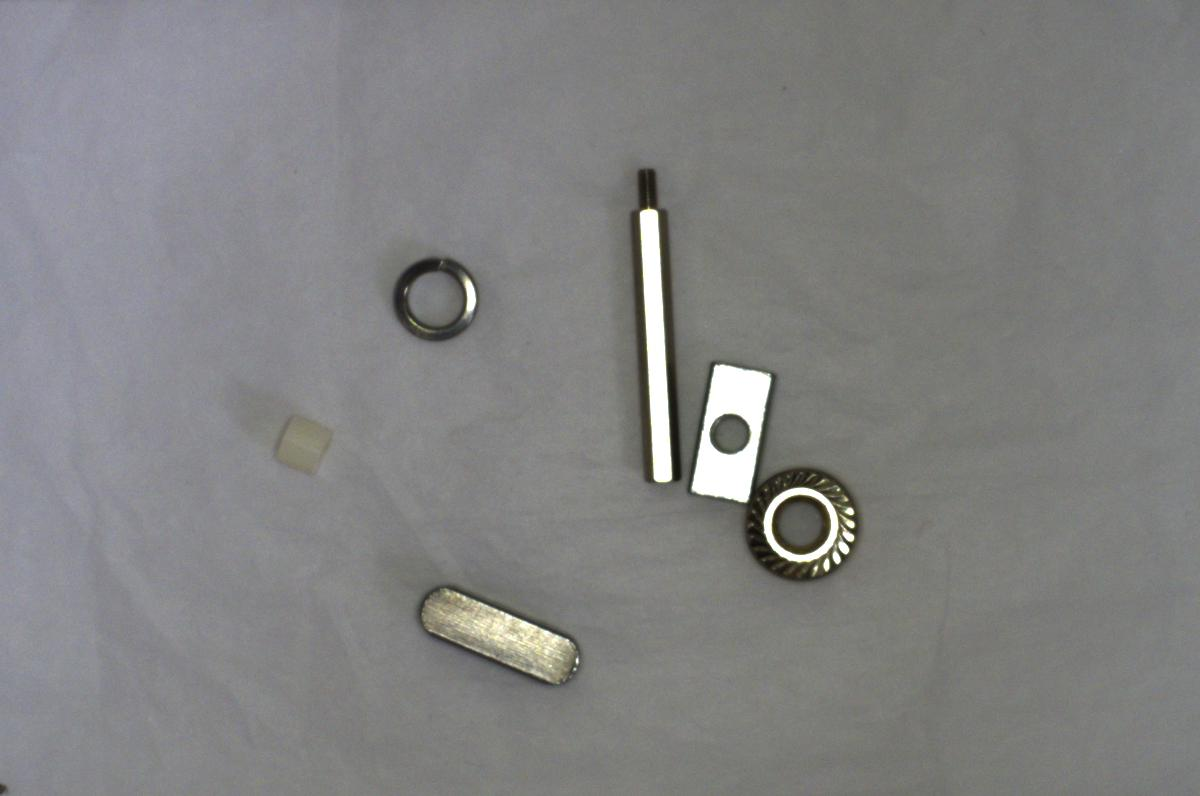Flange nut: (741, 462, 861, 582)
Hexagonal steel column: (626, 158, 687, 492)
Keybar: (406, 581, 585, 685)
Plastic cushion pillar: (261, 407, 338, 486)
Rectangular nut: (682, 362, 775, 508)
Spring washer: (385, 246, 490, 350)
